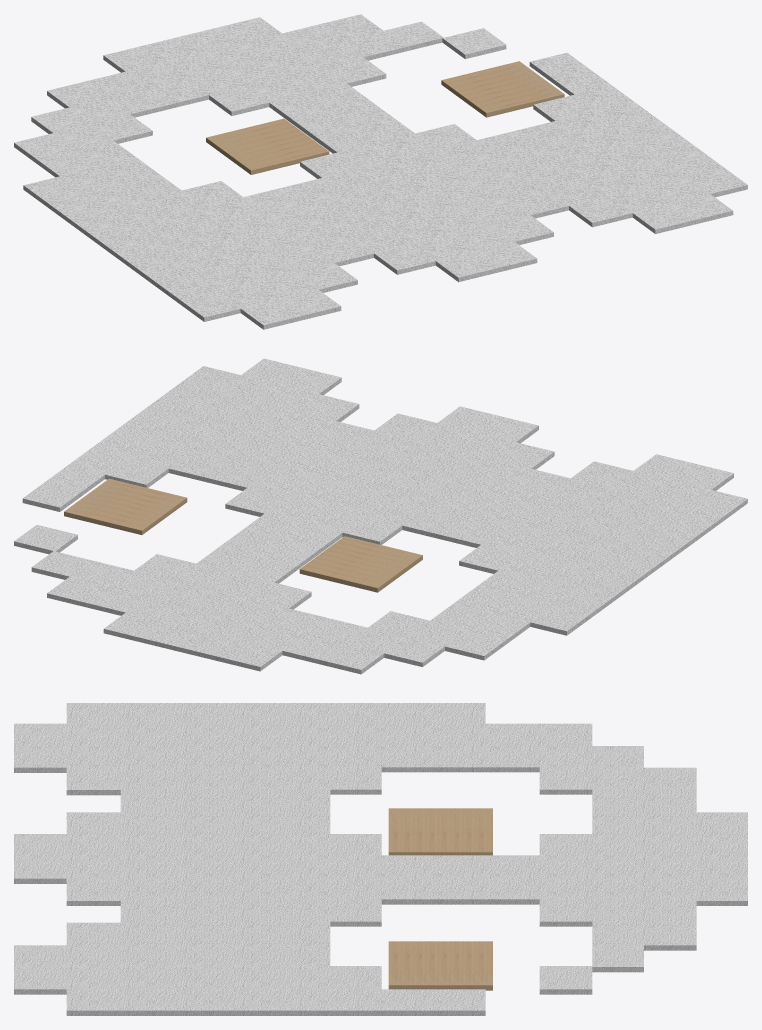
File: fantome 3.fbx
3 renders of one model, top to bottom at view 1: azimuth 30°, elevation 25°; view 2: azimuth 150°, elevation 25°; view 3: azimuth 270°, elevation 25°, orthographic. The views are drawn at different scales.
Visible parts, largest first — view 1: Enduit - Blanc nature, Bois - Pin granuleux horizontal; view 2: Enduit - Blanc nature, Bois - Pin granuleux horizontal; view 3: Enduit - Blanc nature, Bois - Pin granuleux horizontal.
Part boxes in pixels (x1=…): Enduit - Blanc nature: x1=14, y1=14, x2=747, y2=329; Bois - Pin granuleux horizontal: x1=206, y1=61, x2=564, y2=174; Enduit - Blanc nature: x1=14, y1=358, x2=747, y2=674; Bois - Pin granuleux horizontal: x1=64, y1=478, x2=422, y2=592; Enduit - Blanc nature: x1=14, y1=703, x2=747, y2=1015; Bois - Pin granuleux horizontal: x1=388, y1=808, x2=492, y2=990.
Bounding box in the file's own units: 762 × 769 × 6.
Materials: 2 (2 with a texture image).
